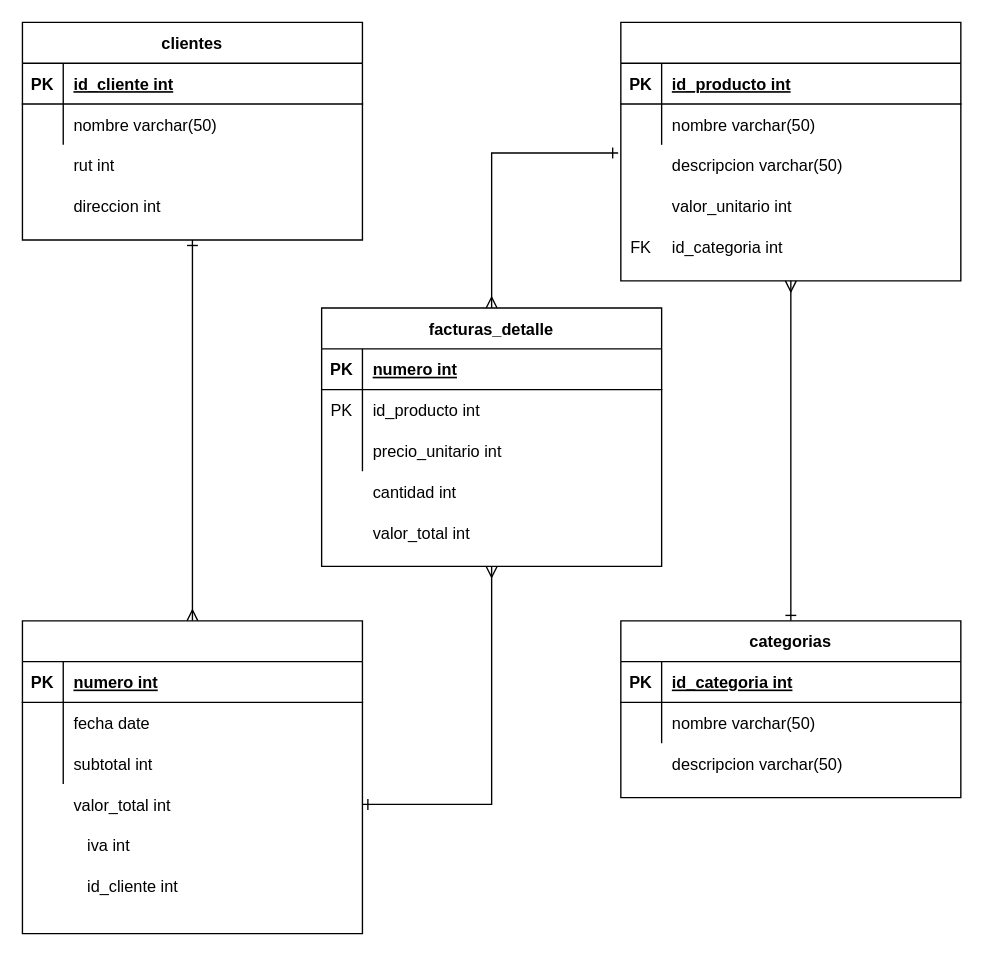
This 983x956 diagram has some shape labels left out. Each missing label, with the box of its shape:
facturas: (21, 619, 362, 934)
productos: (619, 21, 961, 281)
